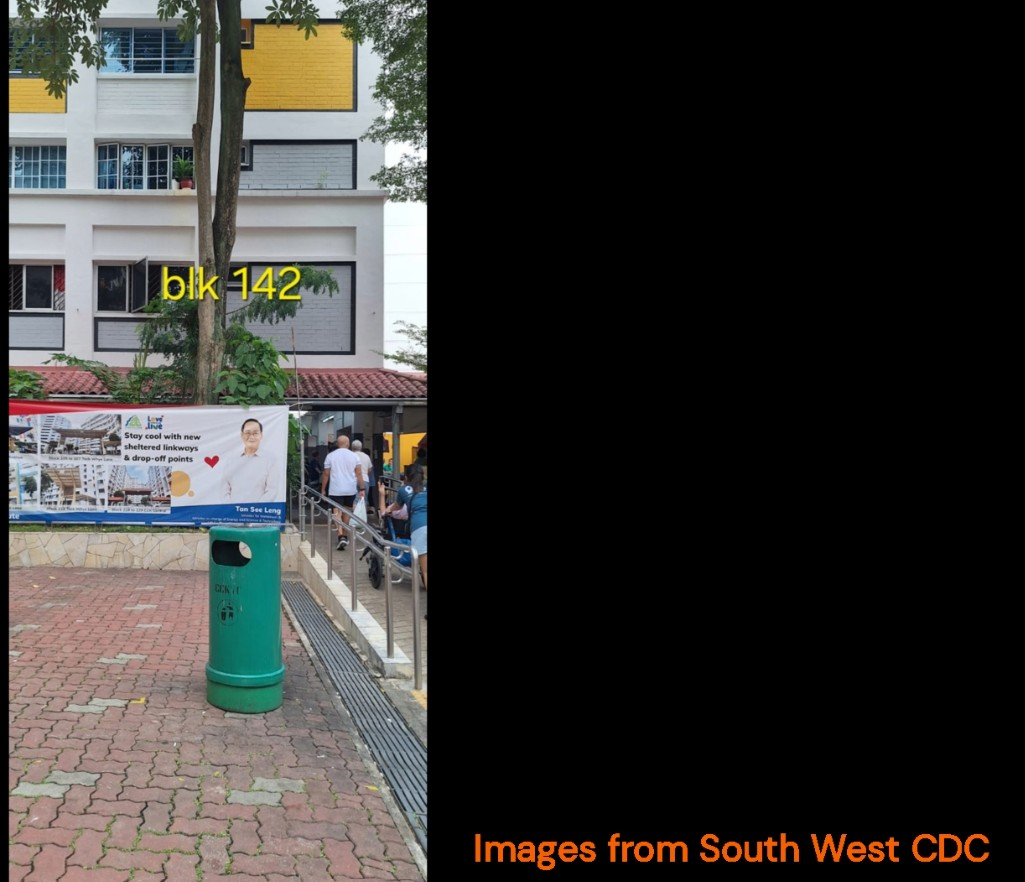bin_empty: (207, 527, 284, 712)
